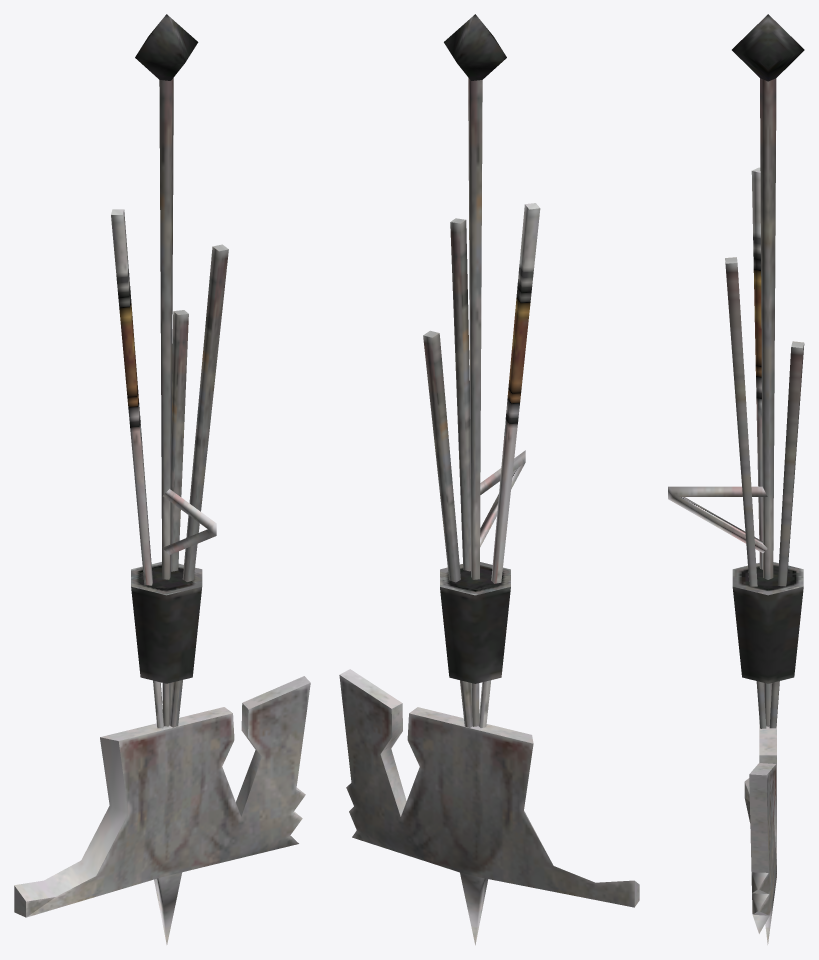
The model's file is eqp_repair_melee_weapon.fbx.
3 views of the same model, side by side, from view 1: azimuth 30°, elevation 25°; view 2: azimuth 150°, elevation 25°; view 3: azimuth 270°, elevation 25° (orthographic).
Parts seen in each view (by area): view 1: mesh_node; view 2: mesh_node; view 3: mesh_node.
Boxes of the visible parts, x1,y1,x2,y2 form: mesh_node: (14,14,310,944); mesh_node: (339,14,639,945); mesh_node: (668,14,804,944).
Bounding box in the file's own units: 0.1793 × 0.5456 × 0.0726.
